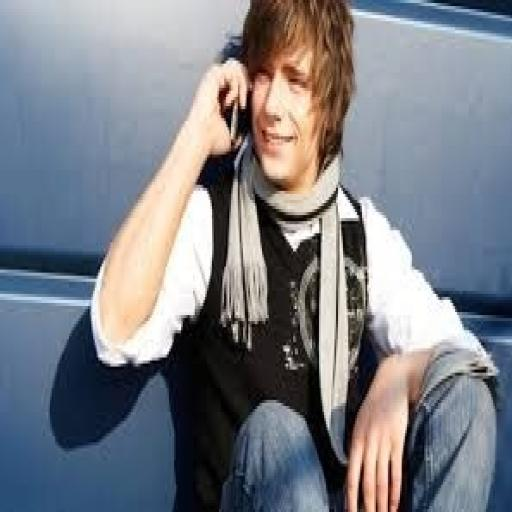calling: (88, 0, 500, 509)
